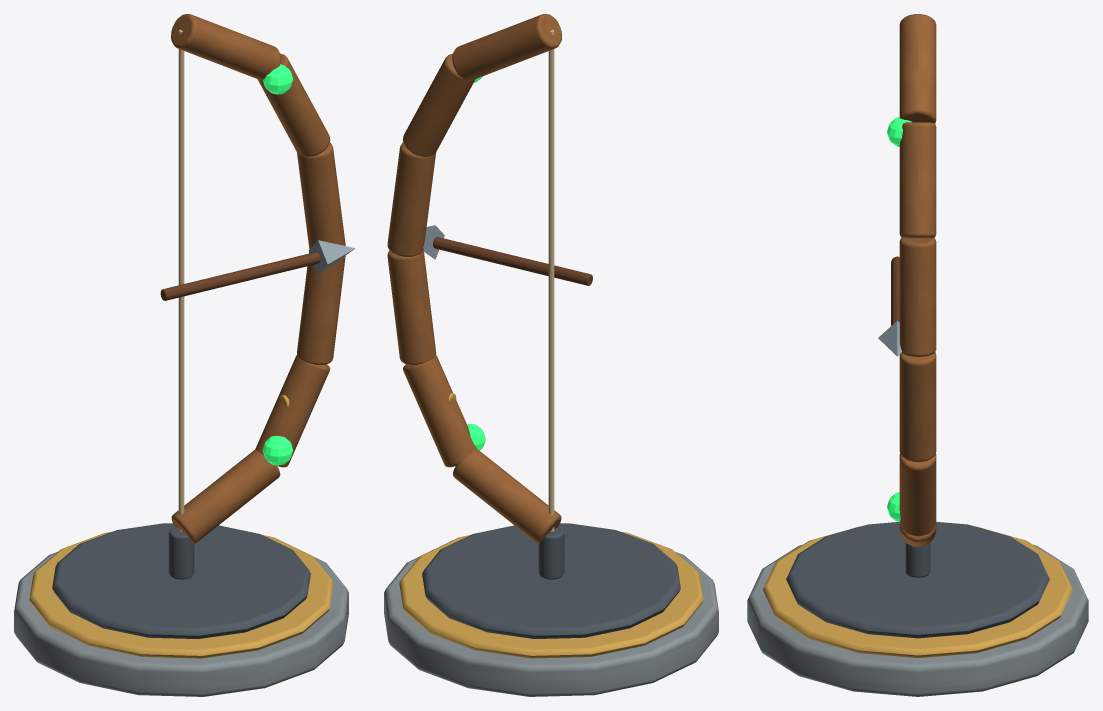
File: riel-bow.glb
3 views of the same model, side by side, from view 1: azimuth 30°, elevation 25°; view 2: azimuth 150°, elevation 25°; view 3: azimuth 270°, elevation 25° (orthographic).
Visible parts, largest first — view 1: Display / raised inset.001, Display / stone base.001, Display / bronze rim.001, Bow / carved limbs 00, Bow / carved limbs 05, Bow / carved limbs 02, Bow / carved limbs 03, Bow / carved limbs 01, Bow / taut string, Bow / carved limbs 04, Arrow / shaft, Display / bow support (+3 smaller); view 2: Display / raised inset.001, Display / stone base.001, Display / bronze rim.001, Bow / carved limbs 00, Bow / carved limbs 02, Bow / carved limbs 05, Bow / carved limbs 01, Bow / carved limbs 03, Bow / carved limbs 04, Bow / taut string, Arrow / shaft, Display / bow support; view 3: Display / raised inset.001, Display / stone base.001, Display / bronze rim.001, Bow / carved limbs 03, Bow / carved limbs 04, Bow / carved limbs 05, Bow / carved limbs 02, Bow / carved limbs 01, Display / bow support, Arrow / shaft.
Part boxes in pixels (x1,y1,x2,y2): Display / raised inset.001: (52, 523, 310, 638); Display / stone base.001: (14, 552, 348, 696); Display / bronze rim.001: (29, 532, 333, 658); Bow / carved limbs 00: (171, 449, 280, 544); Bow / carved limbs 05: (171, 14, 280, 80); Bow / carved limbs 02: (297, 252, 345, 364); Bow / carved limbs 03: (297, 142, 345, 248); Bow / carved limbs 01: (255, 355, 330, 467); Bow / taut string: (178, 29, 184, 532); Bow / carved limbs 04: (257, 53, 330, 156); Arrow / shaft: (160, 252, 320, 300); Display / bow support: (168, 527, 194, 579); Display / raised inset.001: (422, 523, 680, 638); Display / stone base.001: (384, 552, 718, 696); Display / bronze rim.001: (399, 532, 703, 658); Bow / carved limbs 00: (452, 449, 561, 544); Bow / carved limbs 02: (387, 250, 436, 364); Bow / carved limbs 05: (452, 14, 561, 80); Bow / carved limbs 01: (403, 355, 477, 467); Bow / carved limbs 03: (387, 142, 435, 256); Bow / carved limbs 04: (402, 53, 475, 156); Bow / taut string: (548, 29, 554, 532); Arrow / shaft: (433, 237, 592, 285); Display / bow support: (538, 527, 564, 579); Display / raised inset.001: (786, 522, 1049, 638); Display / stone base.001: (747, 545, 1088, 696); Display / bronze rim.001: (763, 526, 1072, 657); Bow / carved limbs 03: (899, 237, 936, 356); Bow / carved limbs 04: (899, 122, 936, 238); Bow / carved limbs 05: (899, 14, 936, 123); Bow / carved limbs 02: (899, 352, 936, 461); Bow / carved limbs 01: (899, 453, 936, 536); Display / bow support: (905, 543, 930, 577); Arrow / shaft: (891, 256, 899, 325).
Size of the model in its own units: 1.4 by 2.64 by 1.32.
Materials: 9 (4 with a texture image).
